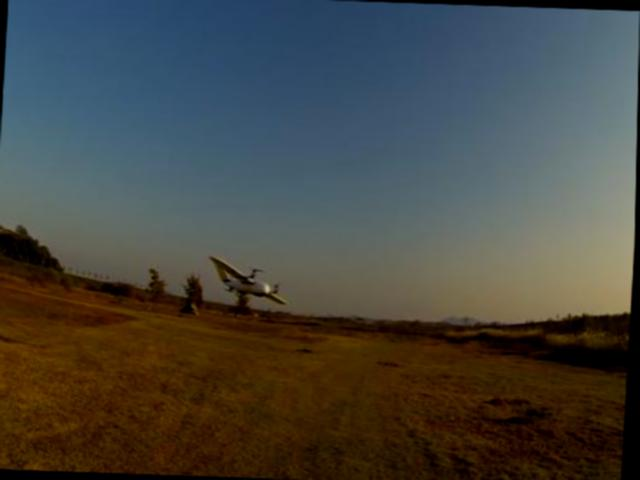uav: (202, 246, 302, 317)
